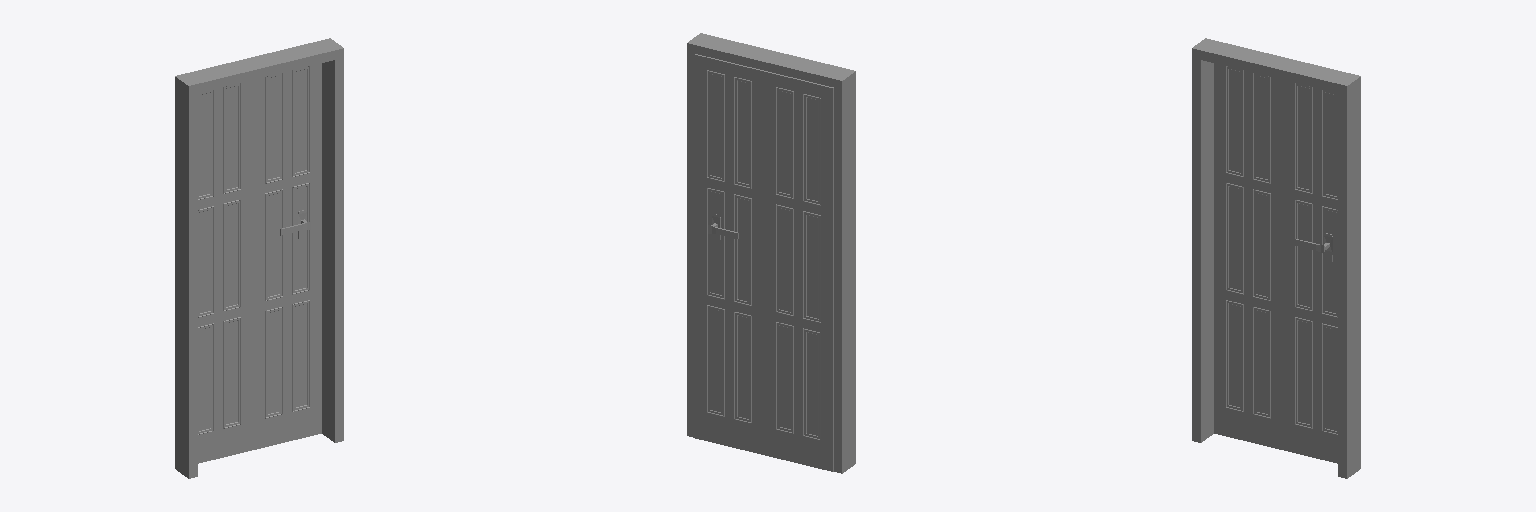
Rendered from door.obj.
3 views of the same model, side by side, from view 1: azimuth 30°, elevation 25°; view 2: azimuth 150°, elevation 25°; view 3: azimuth 330°, elevation 25° (orthographic).
Visible parts, largest first — view 1: Door; view 2: Door; view 3: Door.
Boxes of the visible parts, x1,y1,x2,y2 form: Door: [175, 38, 343, 478]; Door: [687, 33, 855, 473]; Door: [1192, 38, 1360, 478].
Size of the model in its own units: 1.7 by 4.1 by 0.3921.